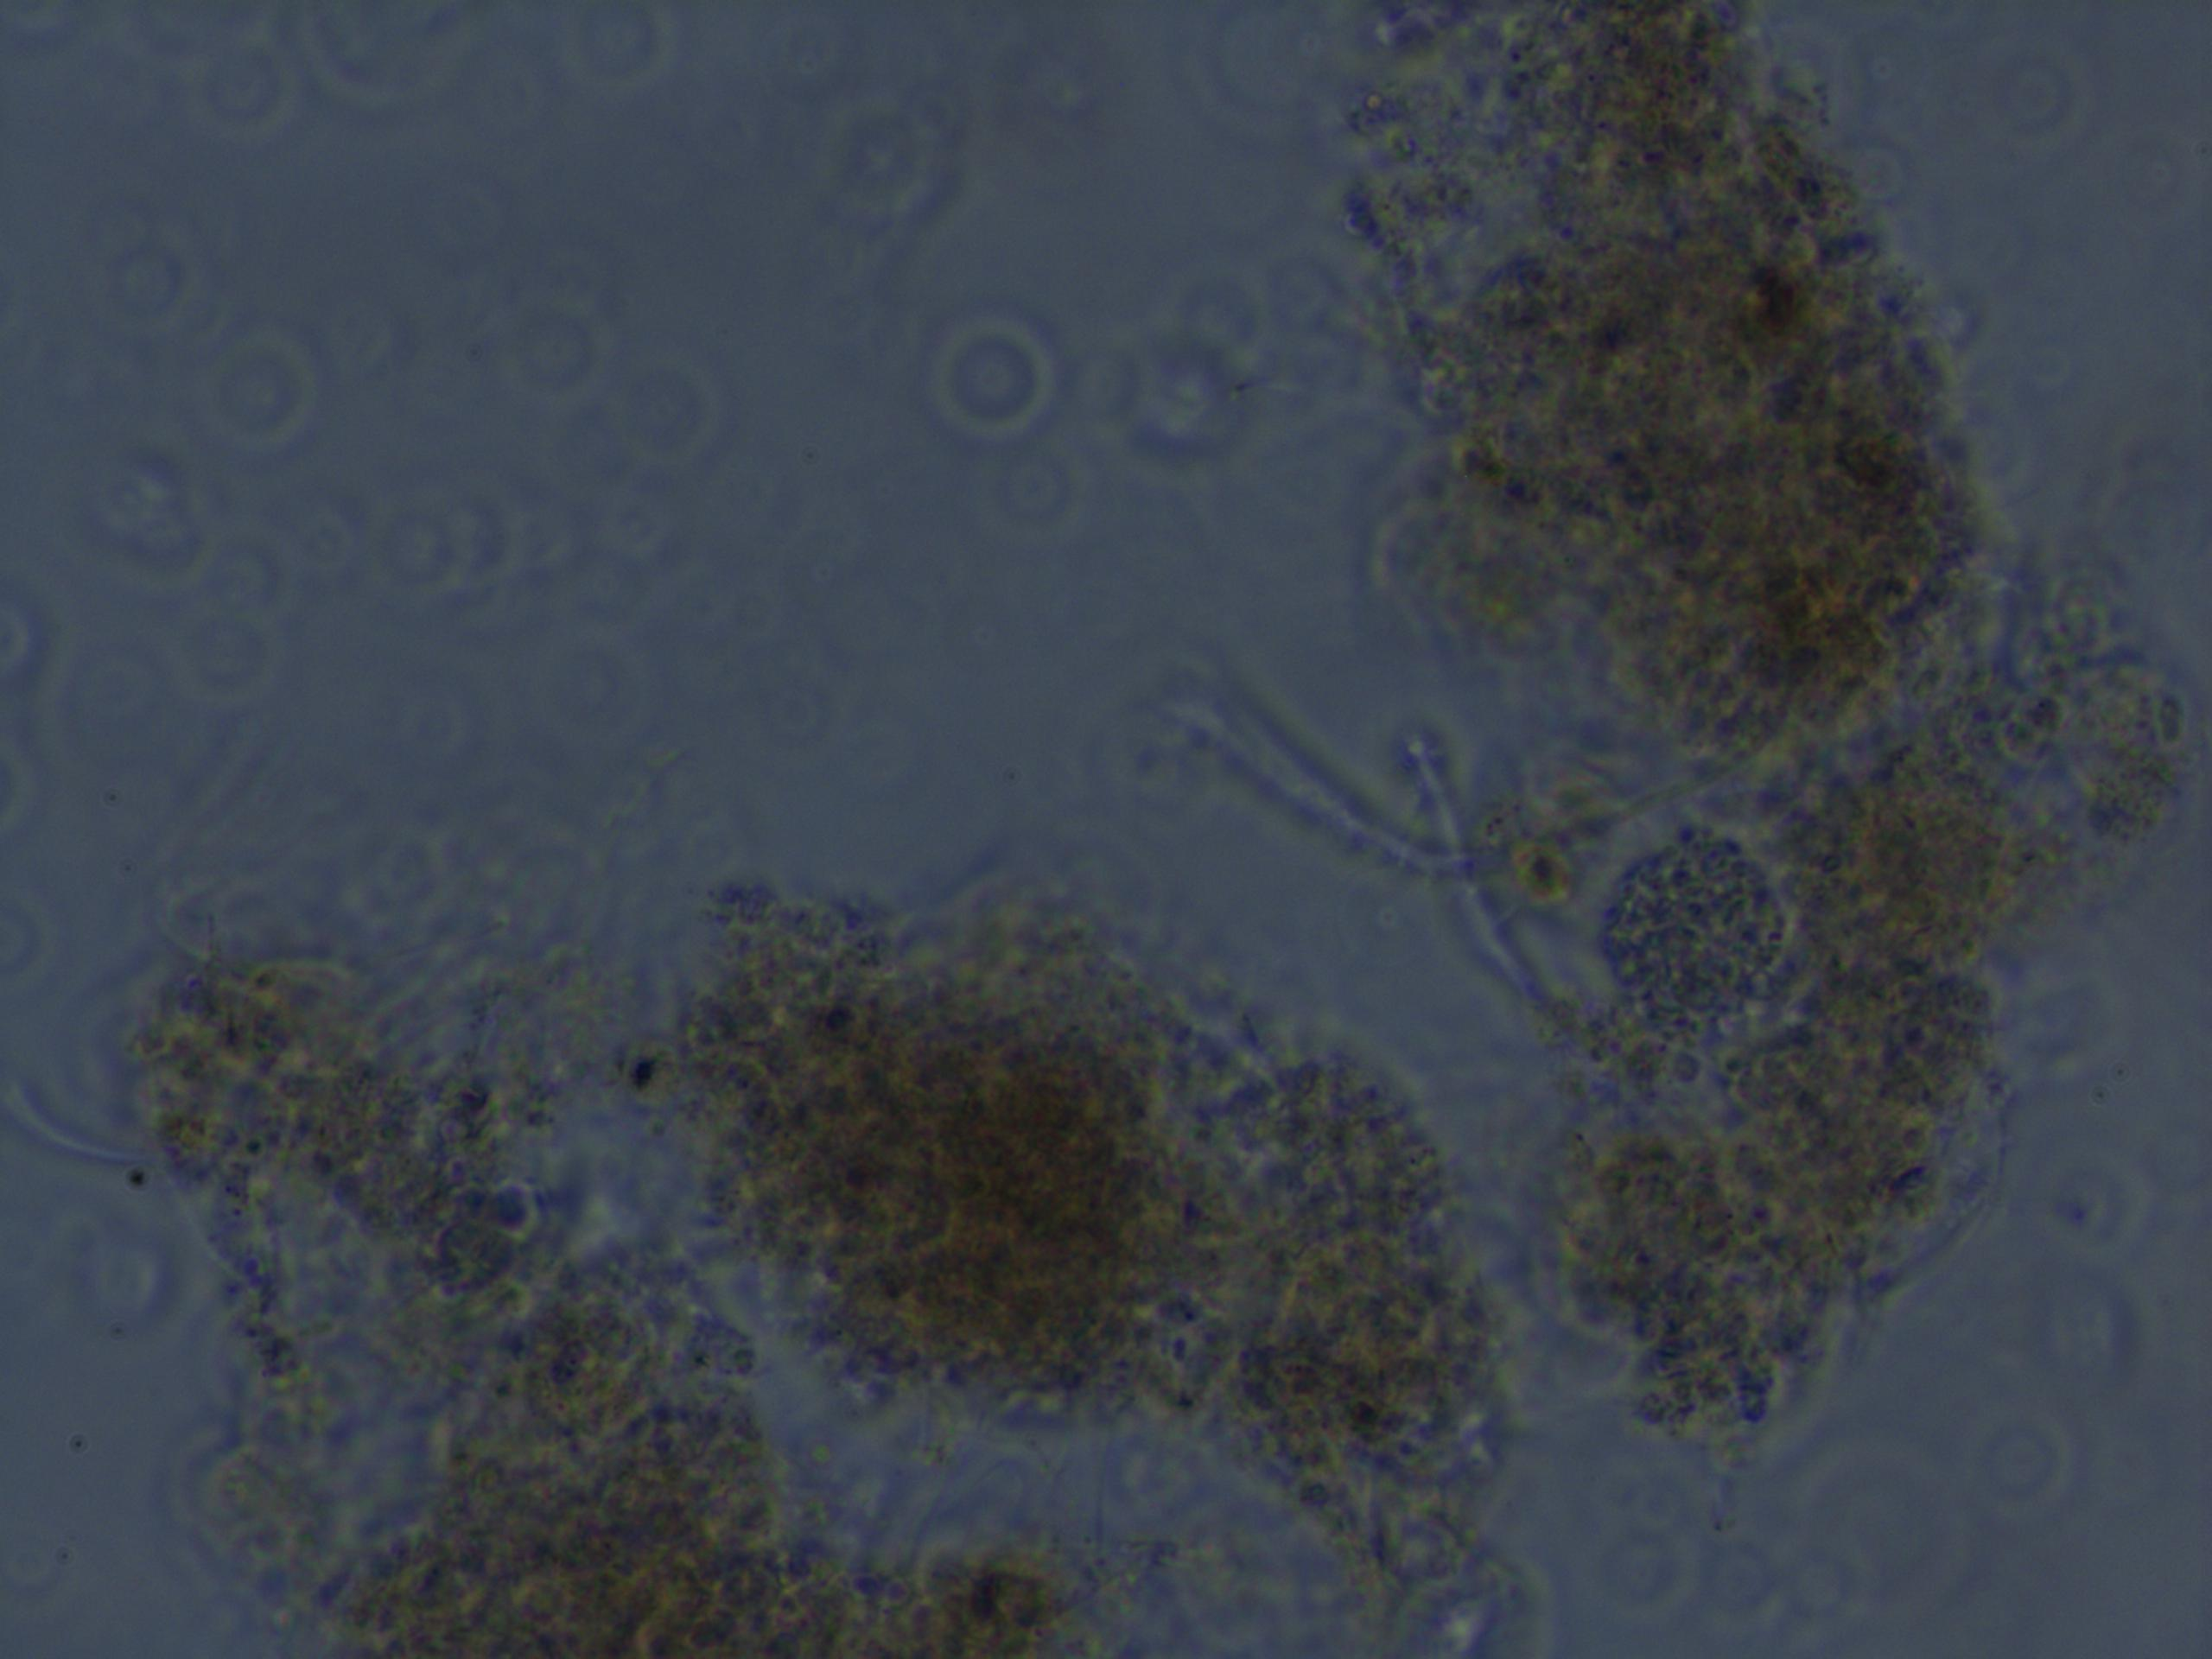filament: (1136, 657, 1562, 1046)
